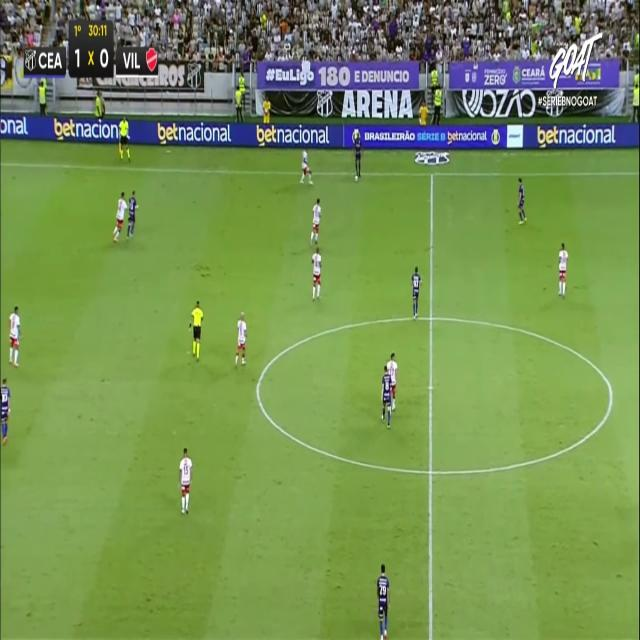ball: (353, 168, 361, 184)
player: (376, 563, 390, 639), (178, 446, 193, 514), (8, 305, 21, 366), (380, 364, 392, 429), (112, 191, 127, 242), (0, 377, 11, 444), (386, 351, 398, 411), (235, 311, 247, 366), (126, 190, 138, 239), (558, 242, 568, 297), (311, 247, 321, 301), (352, 128, 362, 181), (411, 266, 421, 318), (299, 148, 313, 185), (310, 198, 321, 245), (517, 177, 526, 224)
referee: (188, 300, 203, 362), (118, 115, 130, 161)
